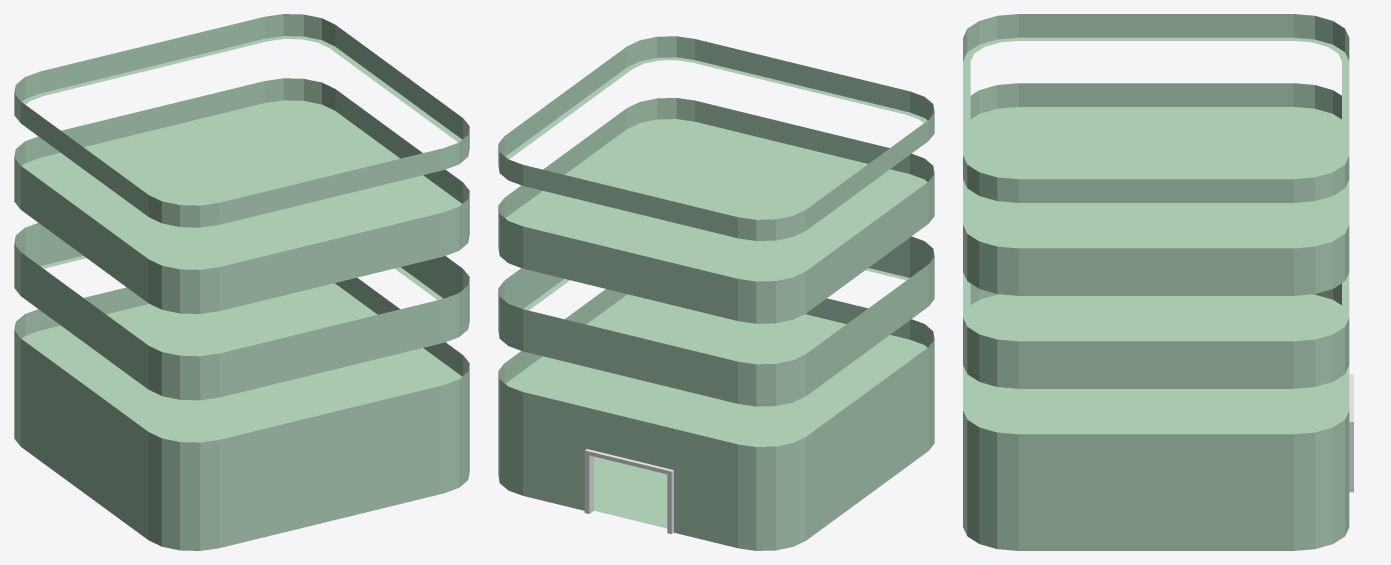
The model's file is Bld_C_high_L5_A.fbx.
3 views of the same model, side by side, from view 1: azimuth 30°, elevation 25°; view 2: azimuth 150°, elevation 25°; view 3: azimuth 270°, elevation 25° (orthographic). The views are drawn at different scales.
Visible parts, largest first — view 1: Bld_C_high_L5_A_LOD0; view 2: Bld_C_high_L5_A_LOD0; view 3: Bld_C_high_L5_A_LOD0.
Part boxes in pixels (<box>): Bld_C_high_L5_A_LOD0: <box>14,14,469,550</box>; Bld_C_high_L5_A_LOD0: <box>498,36,934,550</box>; Bld_C_high_L5_A_LOD0: <box>963,14,1353,550</box>.
Size of what is drawn, in the model's own units: 2100 by 2753 by 2222.
Materials: 1 (1 with a texture image).
